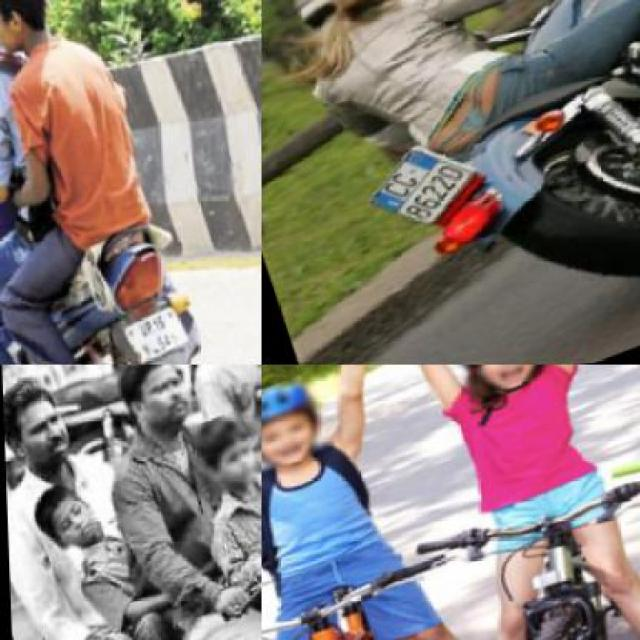With Helmet: (261, 0, 429, 58), (262, 371, 338, 483), (445, 364, 566, 410)
Without Helmet: (2, 369, 82, 486), (109, 365, 203, 452), (186, 410, 260, 508), (0, 0, 58, 67)
